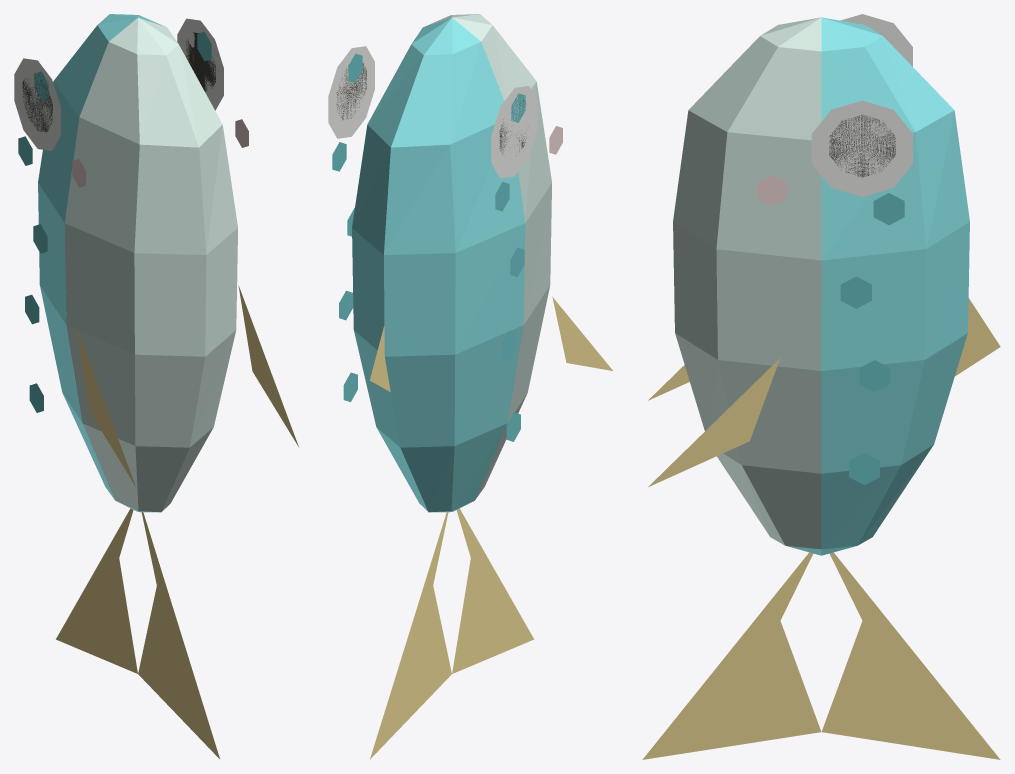
Rendered from fish_small.glb.
The picture shows the model from 3 angles, left to right: view 1: azimuth 30°, elevation 25°; view 2: azimuth 150°, elevation 25°; view 3: azimuth 270°, elevation 25°; orthographic projection. The views are drawn at different scales.
Parts seen in each view (by area): view 1: fishS_body; view 2: fishS_body; view 3: fishS_body.
Boxes of the visible parts, x1,y1,x2,y2 form: fishS_body: [14, 14, 298, 758]; fishS_body: [328, 14, 612, 759]; fishS_body: [642, 14, 1000, 759].
Size of the model in its own units: 0.02 by 0.08 by 0.035.
